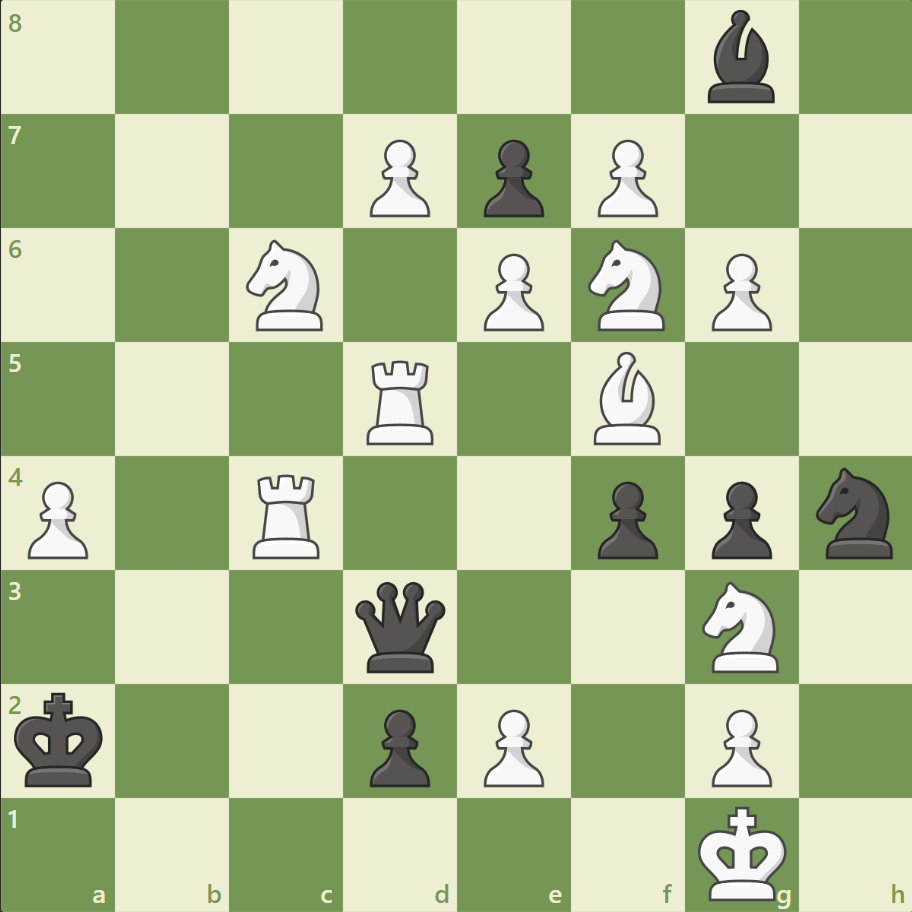B: (585, 347, 669, 449)
K: (692, 798, 792, 906)
N: (238, 234, 335, 337), (579, 234, 676, 337), (692, 575, 789, 677)
P: (474, 246, 549, 337), (701, 246, 776, 337), (20, 473, 95, 564), (474, 700, 549, 791), (701, 700, 776, 791), (361, 132, 435, 223), (588, 132, 662, 223)
R: (246, 466, 329, 563), (360, 352, 442, 449)
b: (698, 6, 782, 109)
k: (11, 685, 111, 793)
n: (806, 461, 903, 564)
p: (474, 132, 549, 223), (701, 473, 776, 564), (588, 473, 662, 564), (361, 700, 435, 791)
q: (351, 576, 450, 676)
